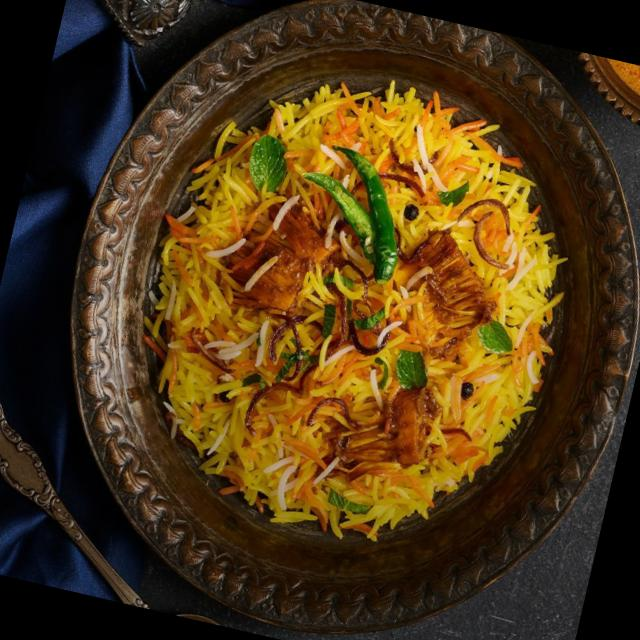Biryani: (98, 36, 605, 585)
